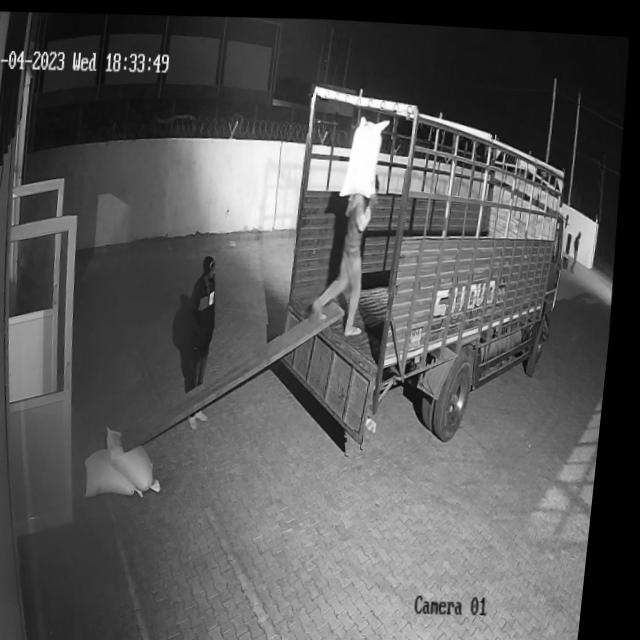sack: (339, 107, 394, 195), (108, 421, 178, 490), (91, 445, 157, 497)
